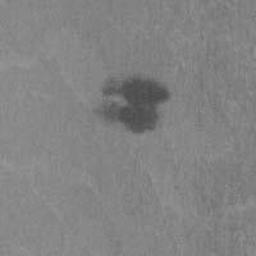Oil spot: (91, 74, 174, 137)
